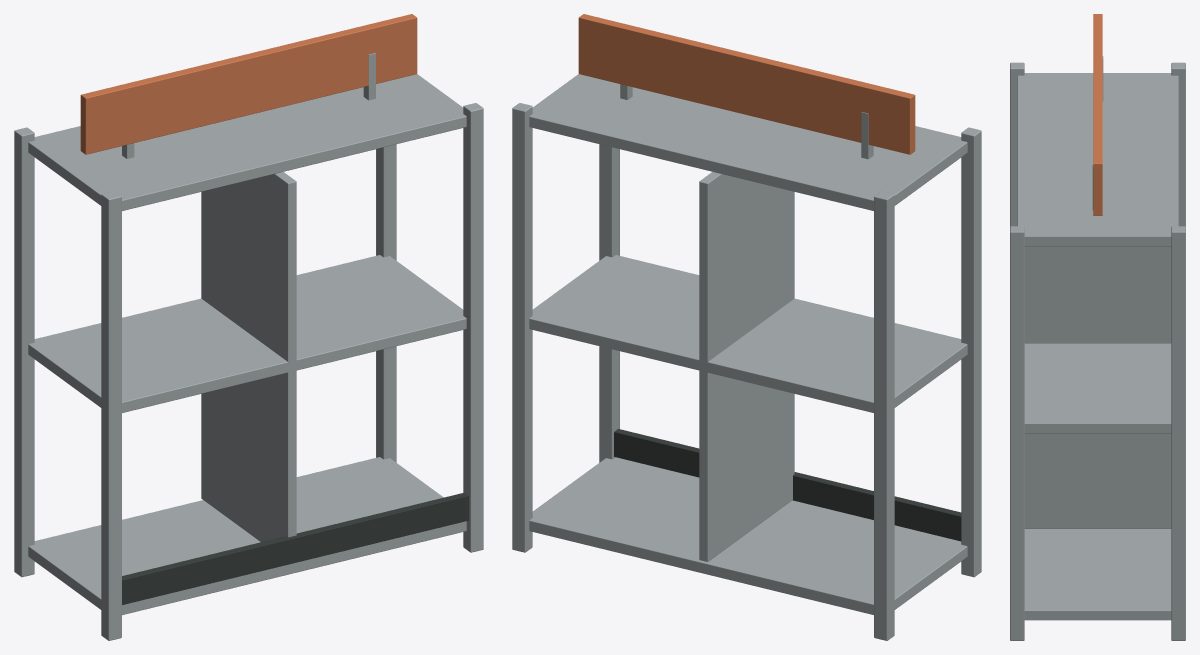
Rendered from extraction-routes-and-objectives-evacuation-supply-rac-347d3375__22177.glb.
3 renders of one model, left to right at view 1: azimuth 30°, elevation 25°; view 2: azimuth 150°, elevation 25°; view 3: azimuth 270°, elevation 25°, orthographic. The views are drawn at different scales.
Visible parts, largest first — view 1: evacuation-supply-rack; view 2: evacuation-supply-rack; view 3: evacuation-supply-rack.
Boxes of the visible parts, x1,y1,x2,y2 form: evacuation-supply-rack: (14, 14, 483, 640); evacuation-supply-rack: (512, 14, 981, 640); evacuation-supply-rack: (1010, 14, 1185, 640).
Bounding box in the file's own units: 1.25 × 1.6 × 0.545.
